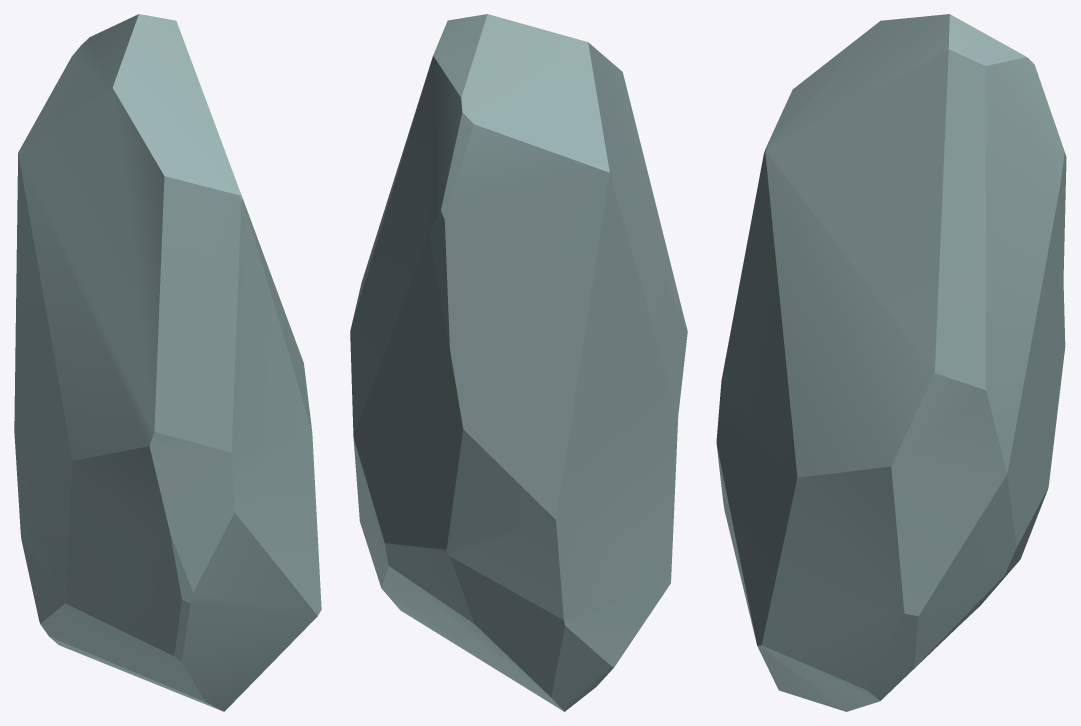
The model's file is rock_tall1.fbx.
3 views of the same model, side by side, from view 1: azimuth 30°, elevation 25°; view 2: azimuth 150°, elevation 25°; view 3: azimuth 270°, elevation 25° (orthographic). The views are drawn at different scales.
Visible parts, largest first — view 1: rock_tall1; view 2: rock_tall1; view 3: rock_tall1.
Boxes of the visible parts, left/top/right/bottom form: rock_tall1: left=14, top=14, right=321, bottom=711; rock_tall1: left=350, top=14, right=687, bottom=711; rock_tall1: left=716, top=14, right=1066, bottom=711.
Bounding box in the file's own units: 1198 × 2896 × 1336.
